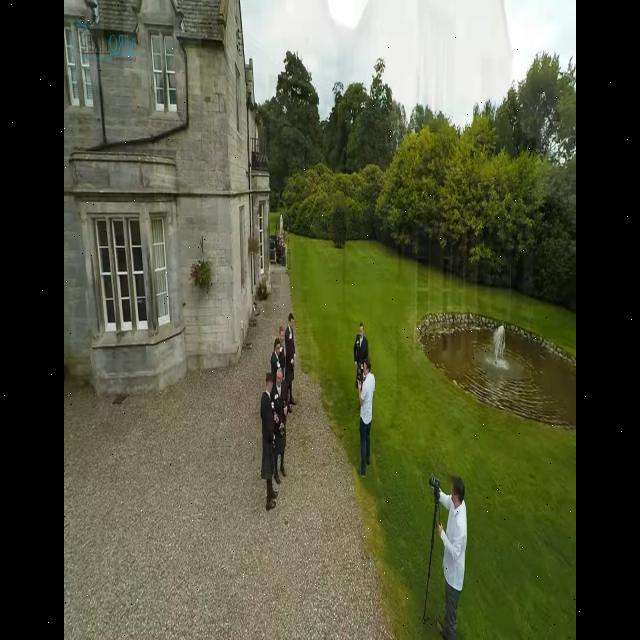humans: (435, 466, 469, 640), (258, 371, 278, 513), (357, 352, 377, 476), (274, 366, 290, 466), (284, 305, 298, 402), (351, 319, 369, 363), (267, 335, 284, 368), (277, 320, 288, 345)
